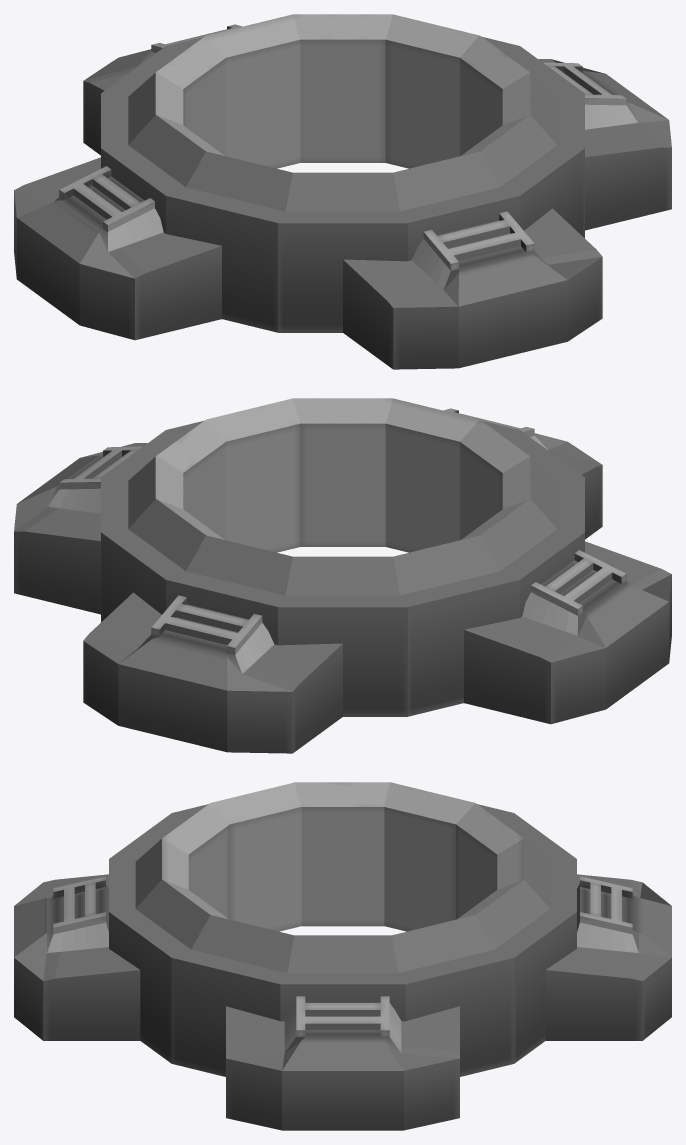
Rendered from botan.fbx.
3 renders of one model, top to bottom at view 1: azimuth 30°, elevation 25°; view 2: azimuth 150°, elevation 25°; view 3: azimuth 270°, elevation 25°, orthographic. The views are drawn at different scales.
Visible parts, largest first — view 1: tube, cuboid_1, cuboid_2, cuboid, cuboid_3; view 2: tube, cuboid_3, cuboid_2, cuboid, cuboid_1; view 3: tube, cuboid, cuboid_1, cuboid_3.
Boxes of the visible parts, x1=… form: tube: x1=101, y1=14, x2=584, y2=332; cuboid_1: x1=343, y1=208, x2=602, y2=369; cuboid_2: x1=14, y1=157, x2=221, y2=340; cuboid: x1=538, y1=59, x2=671, y2=230; cuboid_3: x1=83, y1=24, x2=242, y2=155; tube: x1=101, y1=398, x2=584, y2=716; cuboid_3: x1=83, y1=592, x2=342, y2=753; cuboid_2: x1=464, y1=541, x2=671, y2=724; cuboid: x1=14, y1=443, x2=147, y2=614; cuboid_1: x1=443, y1=408, x2=602, y2=539; tube: x1=109, y1=782, x2=576, y2=1076; cuboid: x1=226, y1=996, x2=459, y2=1130; cuboid_1: x1=14, y1=874, x2=140, y2=1040; cuboid_3: x1=545, y1=874, x2=671, y2=1040.
Bounding box in the file's own units: 281 × 62.5 × 281.
